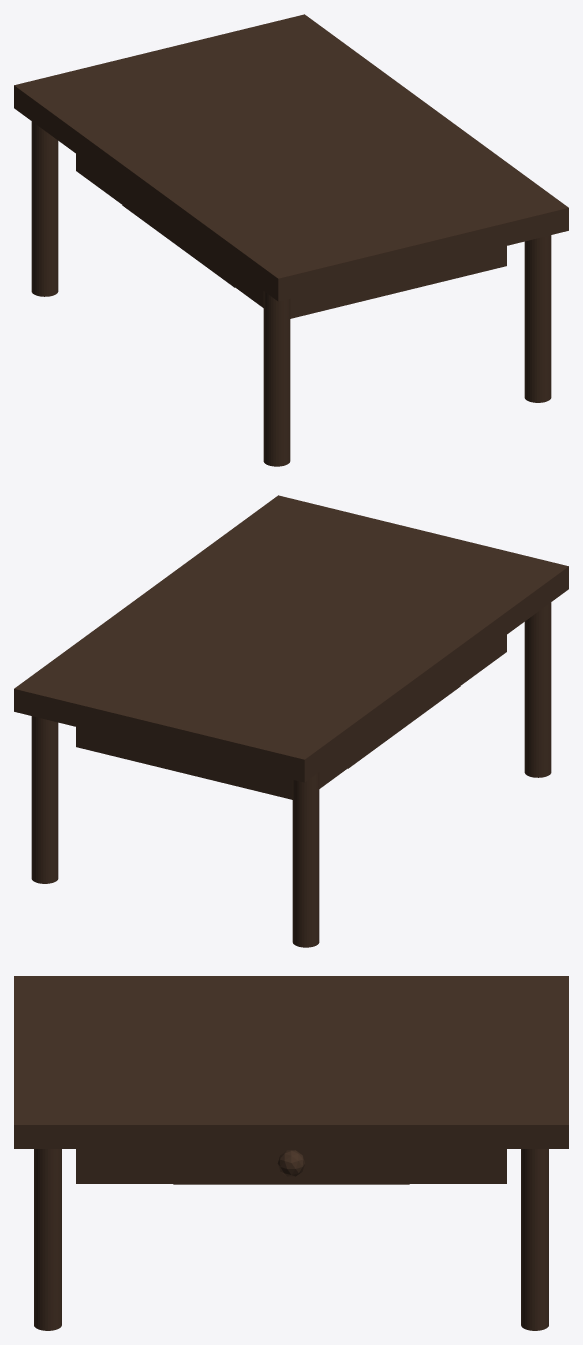
Rendered from mesa.fbx.
3 views of the same model, one above another, from view 1: azimuth 30°, elevation 25°; view 2: azimuth 150°, elevation 25°; view 3: azimuth 270°, elevation 25° (orthographic). The views are drawn at different scales.
Parts seen in each view (by area): view 1: Cylinder, Cajon; view 2: Cylinder, Cajon; view 3: Cylinder, Cajon.
Part boxes in pixels (box(x1,y1,x2,y2)): Cylinder: box(14, 14, 568, 466); Cajon: box(122, 188, 234, 286); Cylinder: box(14, 495, 568, 947); Cajon: box(348, 669, 460, 767); Cylinder: box(14, 976, 568, 1330); Cajon: box(173, 1149, 409, 1183).
Bounding box in the file's own units: 218 × 142 × 343.
